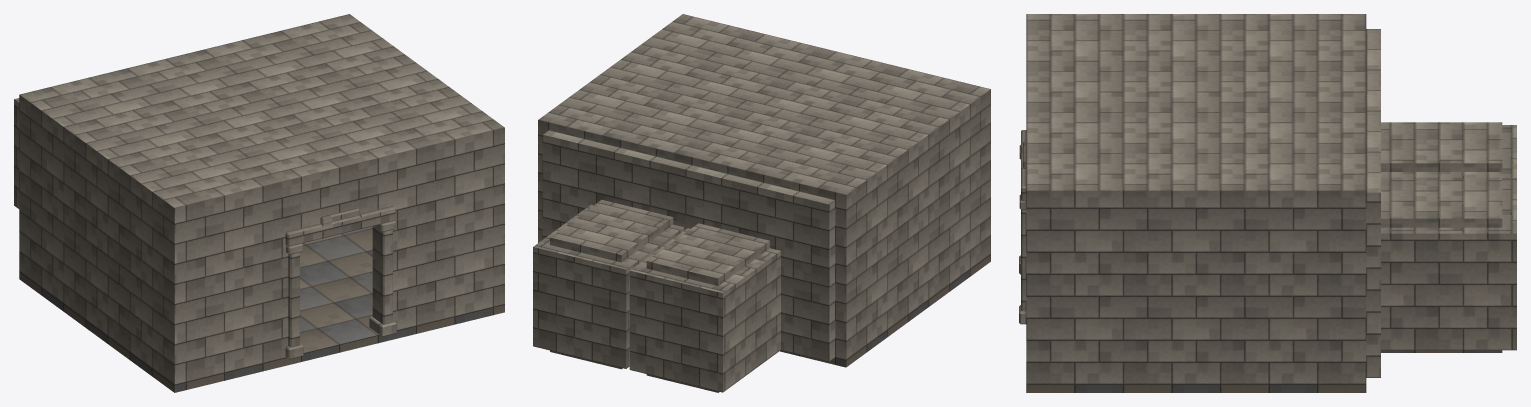
Rendered from MOD_RoomChoice.fbx.
3 renders of one model, left to right at view 1: azimuth 30°, elevation 25°; view 2: azimuth 150°, elevation 25°; view 3: azimuth 270°, elevation 25°, orthographic. The views are drawn at different scales.
Visible parts, largest first — view 1: Ceiling.004, Wall_Side.004, Wall_S.002, Wall_S.003, Floor.004, Portal_Frame.004, Portal_Head.004, Portal_Side_L.004, Wall_Side.005, Portal_Side_R.004, Stub; view 2: Ceiling.004, Wall_Side.004, Stub, Stub.001, Wall_N_L, Wall_N_R, Wall_N_Pier, Wall_N_Head, Wall_N_Head.001, Floor.004, Wall_Side.005; view 3: Ceiling.004, Wall_Side.005, Stub.001, Stub, Wall_N_R, Floor.004, Portal_Frame.004, Wall_N_L, Wall_N_Pier.
Part boxes in pixels (bbox=[...]): Ceiling.004: bbox=[19, 14, 504, 215]; Wall_Side.004: bbox=[19, 103, 186, 384]; Wall_S.002: bbox=[186, 191, 278, 381]; Wall_S.003: bbox=[401, 138, 493, 329]; Floor.004: bbox=[19, 226, 504, 392]; Portal_Frame.004: bbox=[285, 206, 396, 359]; Portal_Head.004: bbox=[297, 165, 381, 228]; Portal_Side_L.004: bbox=[278, 186, 297, 359]; Wall_Side.005: bbox=[493, 135, 504, 306]; Portal_Side_R.004: bbox=[382, 161, 401, 330]; Stub: bbox=[14, 98, 19, 208]; Ceiling.004: bbox=[538, 14, 990, 202]; Wall_Side.004: bbox=[835, 97, 990, 359]; Stub: bbox=[629, 223, 780, 392]; Stub.001: bbox=[533, 200, 683, 369]; Wall_N_L: bbox=[755, 182, 835, 361]; Wall_N_R: bbox=[542, 130, 621, 239]; Wall_N_Pier: bbox=[659, 158, 718, 230]; Wall_N_Head: bbox=[712, 171, 761, 236]; Wall_N_Head.001: bbox=[616, 148, 664, 213]; Floor.004: bbox=[780, 254, 990, 367]; Wall_Side.005: bbox=[538, 127, 548, 242]; Ceiling.004: bbox=[1026, 14, 1366, 199]; Wall_Side.005: bbox=[1026, 199, 1366, 384]; Stub.001: bbox=[1381, 177, 1516, 352]; Stub: bbox=[1381, 122, 1516, 180]; Wall_N_R: bbox=[1366, 151, 1380, 377]; Floor.004: bbox=[1026, 384, 1366, 392]; Portal_Frame.004: bbox=[1019, 130, 1026, 324]; Wall_N_L: bbox=[1366, 29, 1380, 70]; Wall_N_Pier: bbox=[1366, 95, 1380, 126].
Size of the model in its own units: 8.6 by 4.6 by 10.25.
